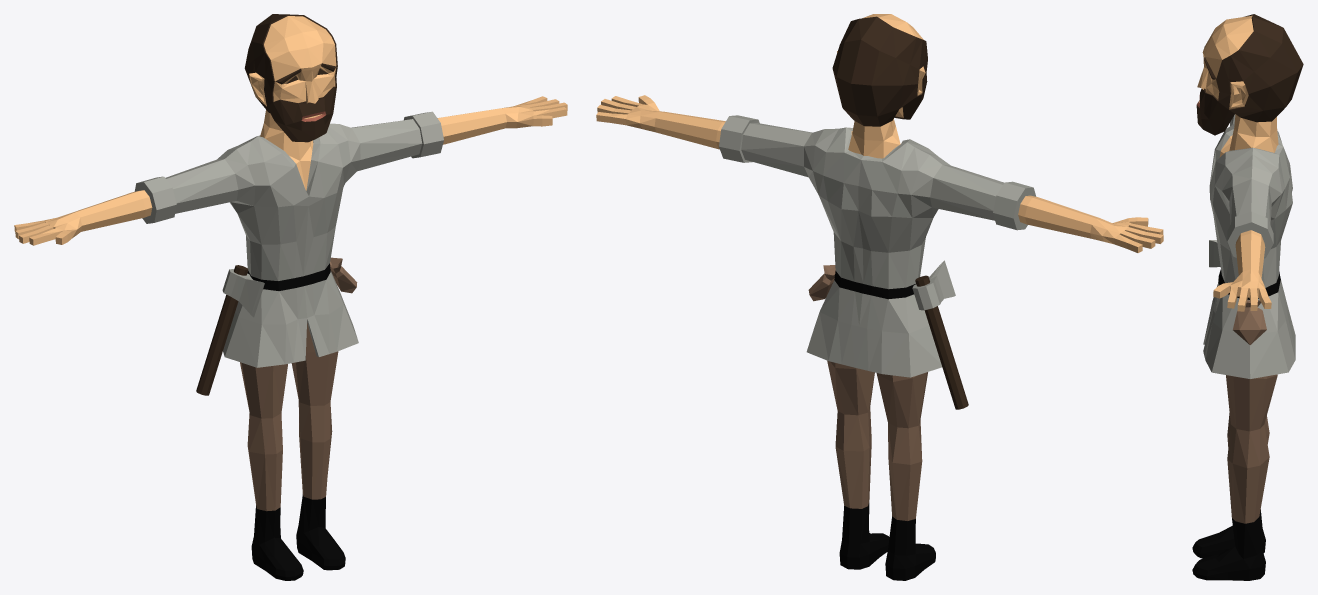
The model's file is char 1.fbx.
3 renders of one model, left to right at view 1: azimuth 30°, elevation 25°; view 2: azimuth 150°, elevation 25°; view 3: azimuth 270°, elevation 25°, orthographic. The views are drawn at different scales.
Visible parts, largest first — view 1: Circle; view 2: Circle; view 3: Circle.
Boxes of the visible parts, left/top/right/bottom form: Circle: left=14, top=14, right=567, bottom=580; Circle: left=596, top=14, right=1163, bottom=580; Circle: left=1192, top=14, right=1303, bottom=580.
Bounding box in the file's own units: 39.67 × 228 × 215.
